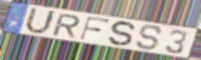3: (166, 29, 188, 55)
F: (78, 16, 111, 41)
R: (51, 13, 82, 39)
S: (107, 20, 137, 47), (135, 24, 164, 51)
U: (23, 6, 58, 36)
